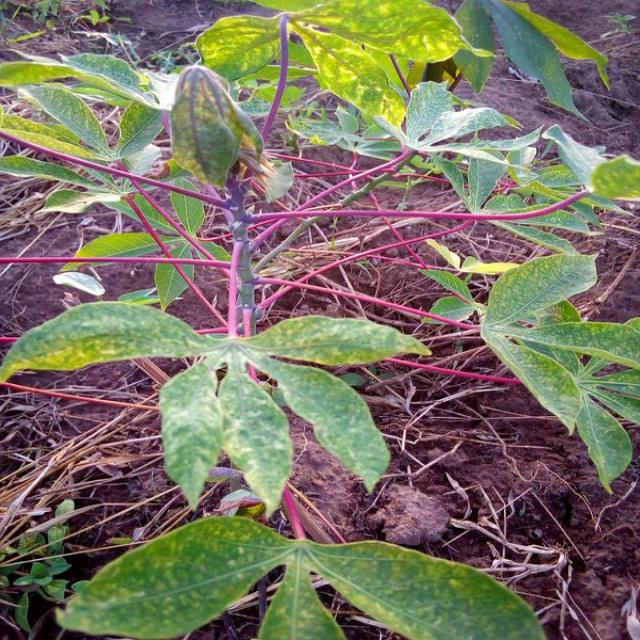cassava leaf: (54, 514, 546, 639), (169, 63, 263, 189)
